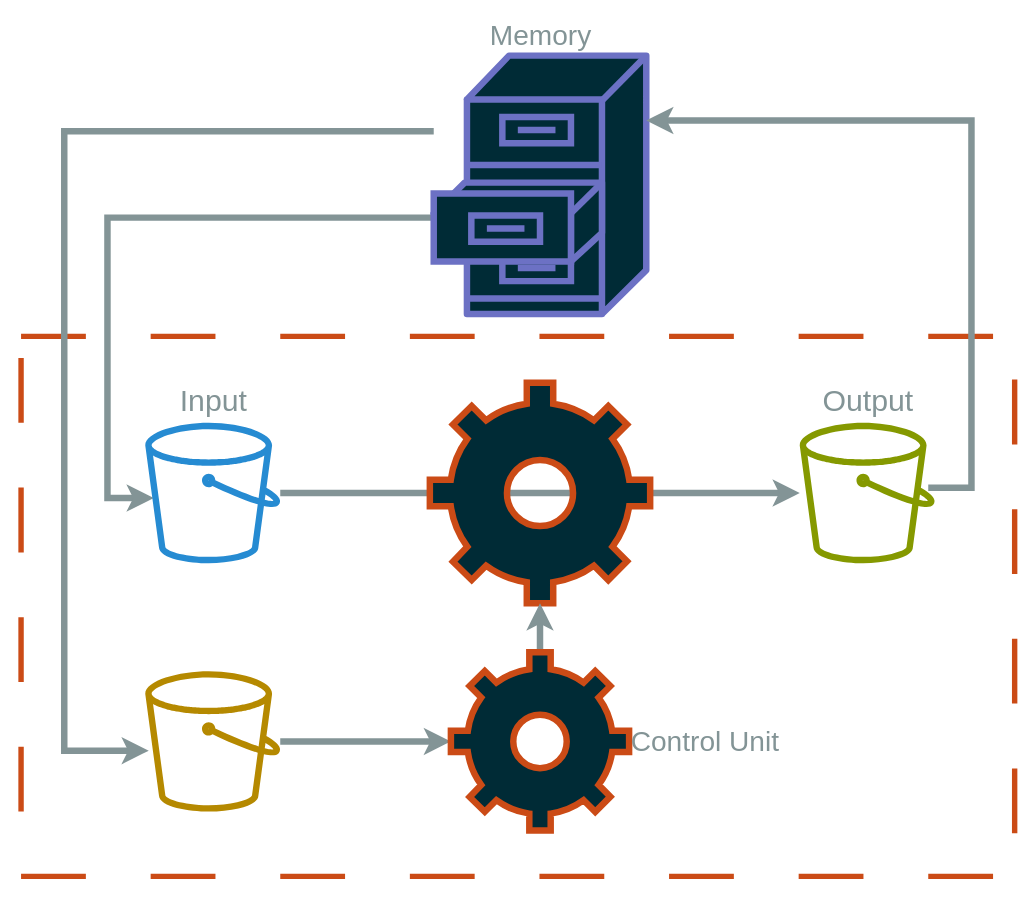
Some shapes in this 1036 by 897 pixel diagram are drawn without their labels. Each missing label, with the centre of its shape:
"Instruction" belongs at (212,741).
"Logic Unit" belongs at (539,492).
